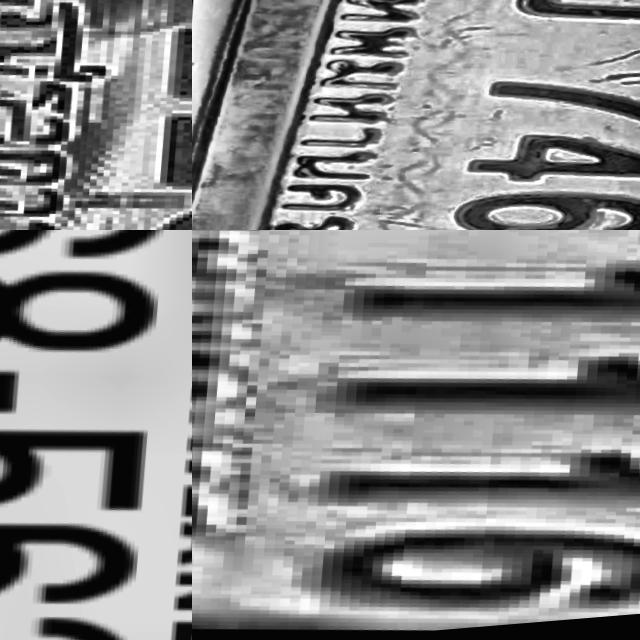license-plate: (192, 230, 640, 640), (192, 0, 640, 230), (0, 230, 192, 640), (0, 0, 192, 230)
